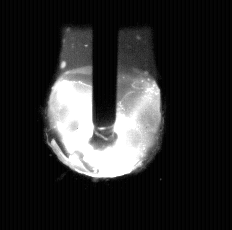arame: (93, 0, 118, 151)
poca: (46, 0, 162, 230)
